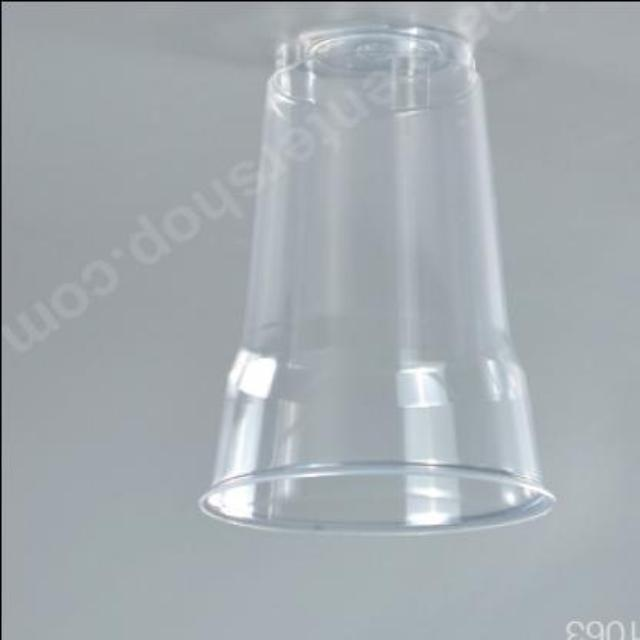plastic_box: (198, 15, 550, 531)
